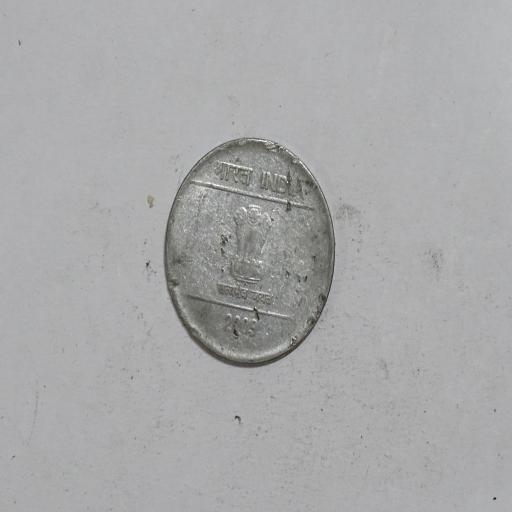rupee2: (161, 138, 334, 367)
